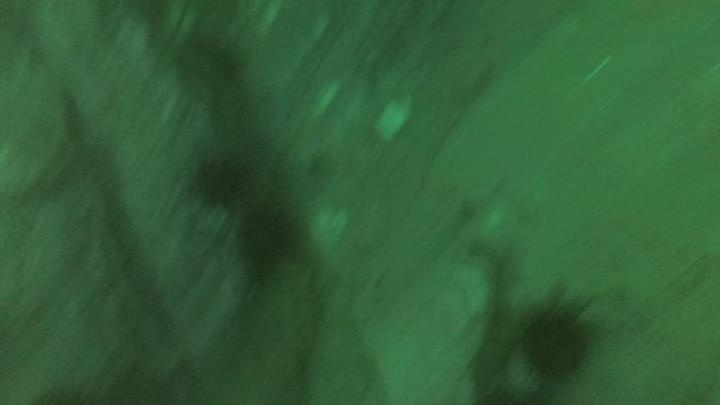echinus: (515, 295, 599, 385), (234, 198, 301, 276), (173, 31, 245, 93), (191, 150, 257, 210)
